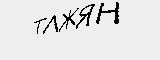Ж: (58, 6, 79, 30)
Л: (42, 12, 61, 36)
Н: (94, 1, 120, 27)
Т: (32, 14, 46, 35)
Я: (74, 1, 95, 32)
